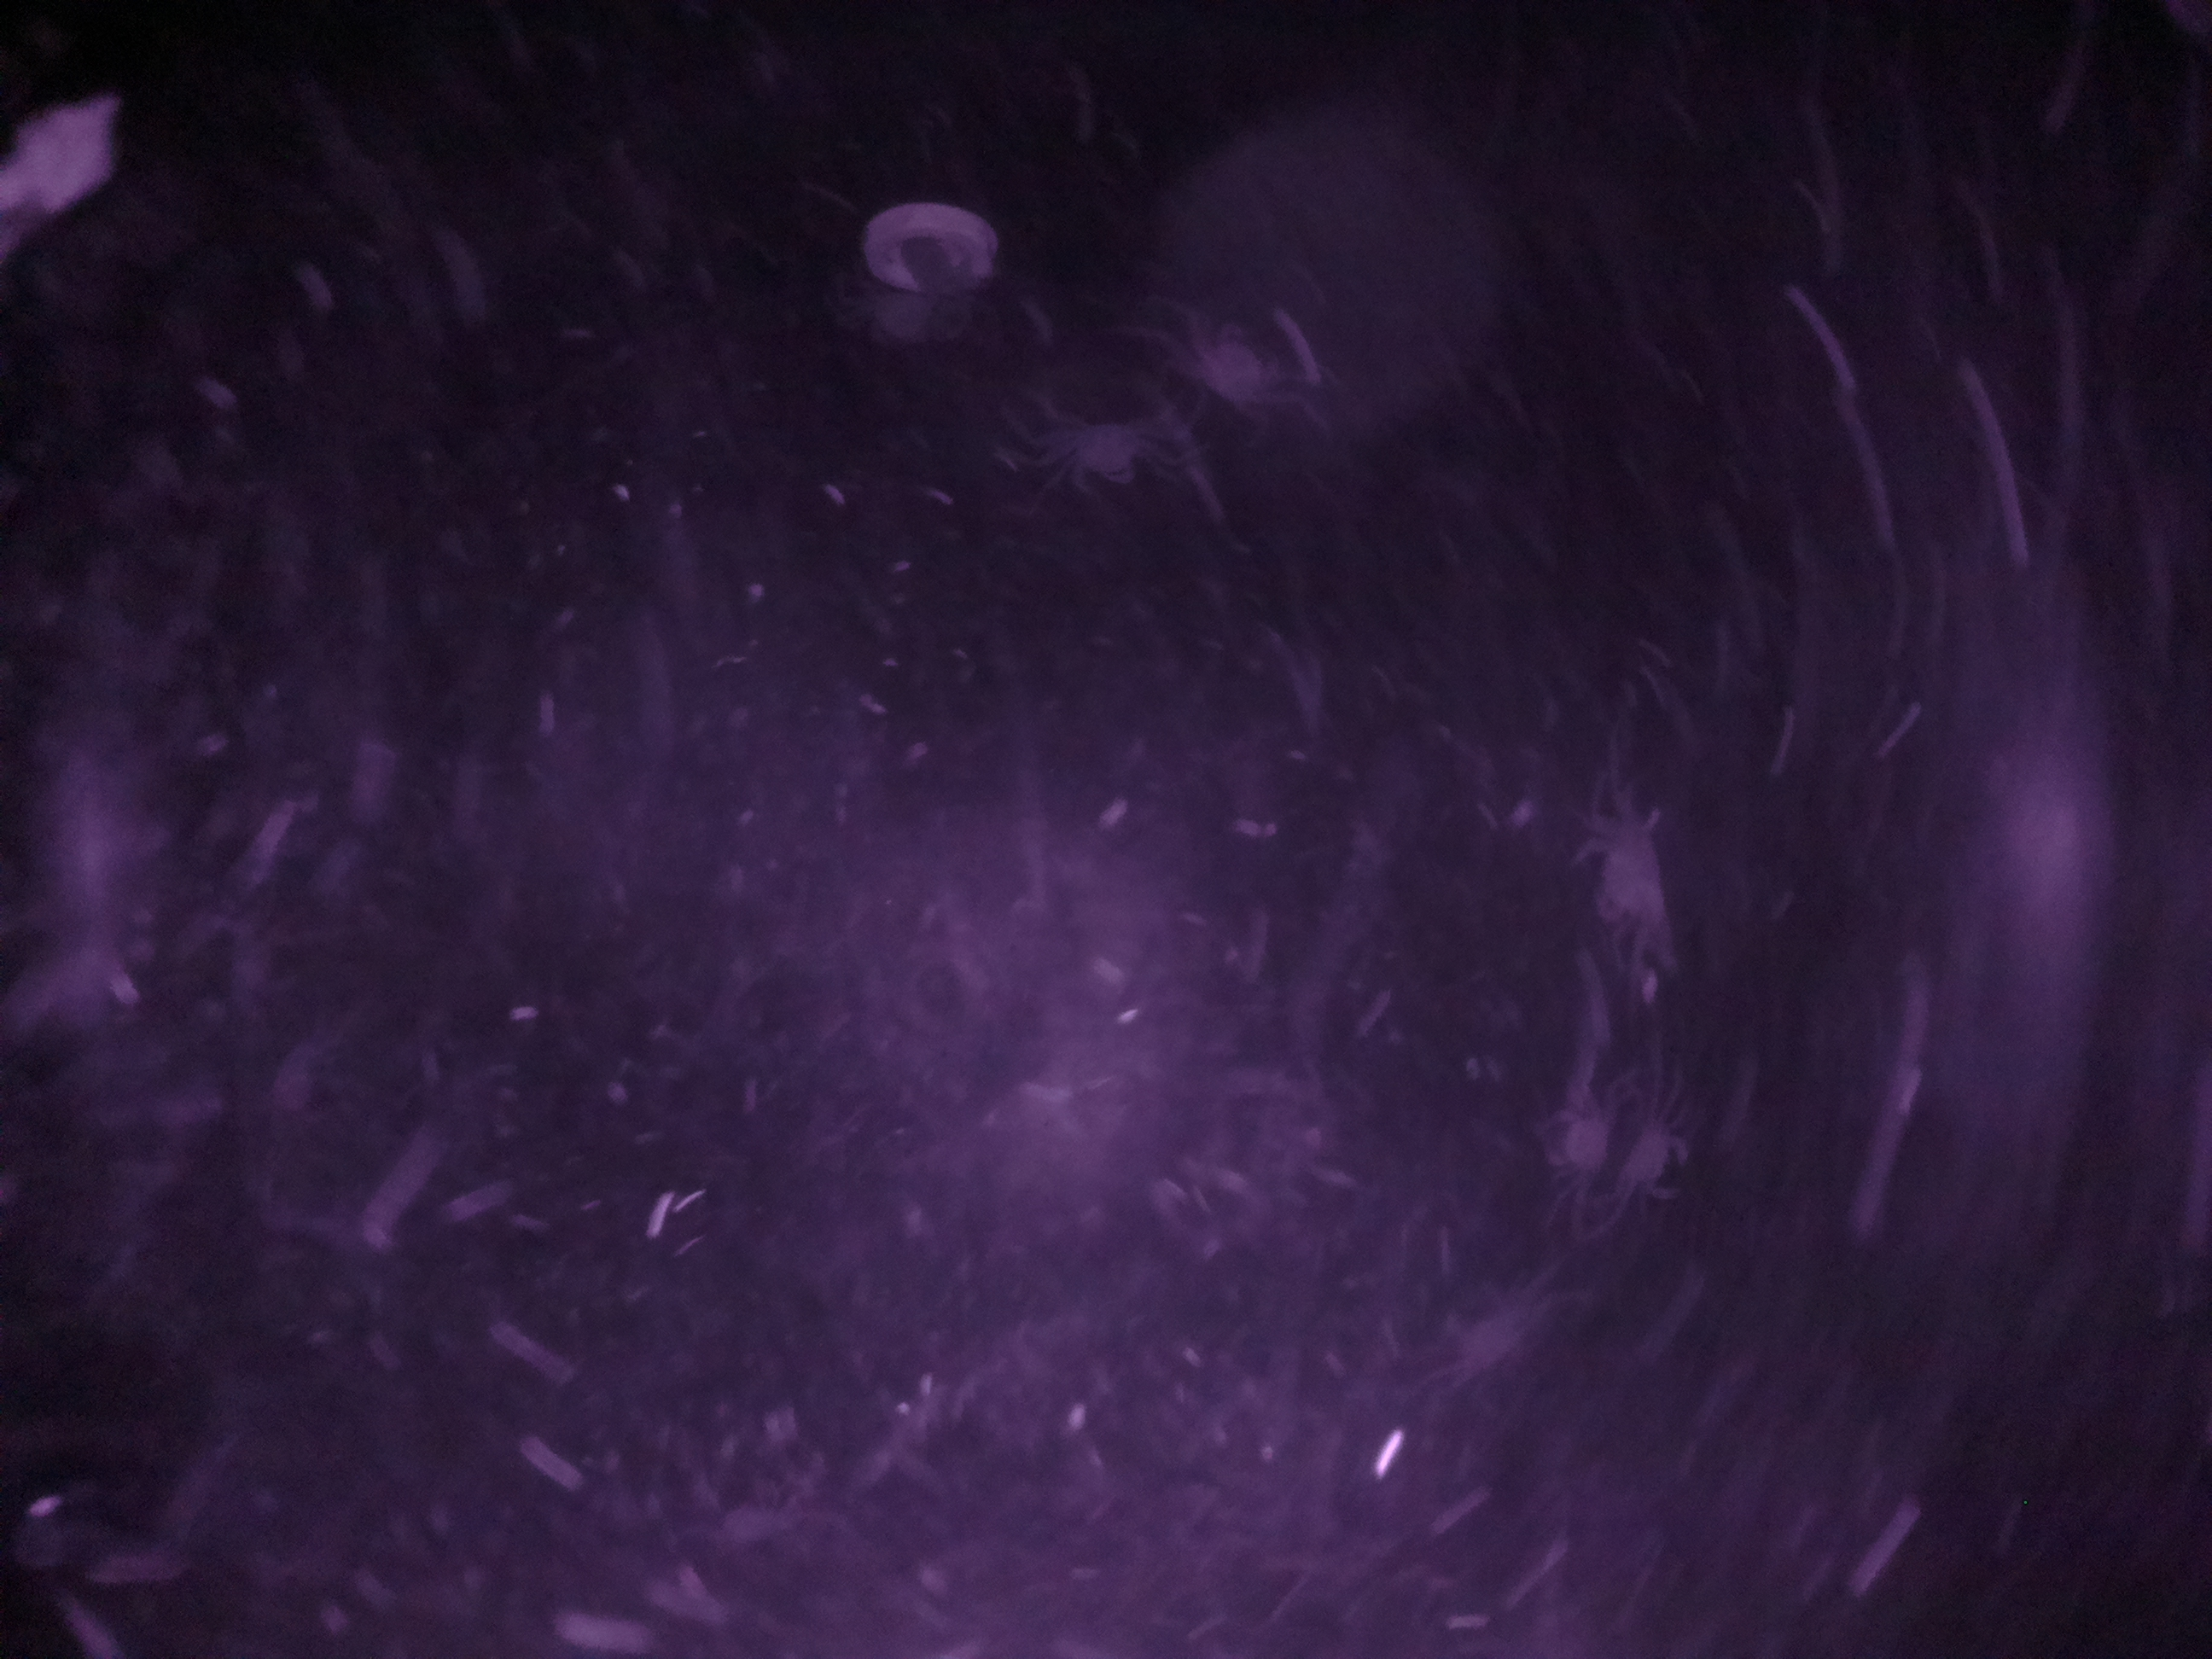Crab: (1561, 807, 1700, 951), (1533, 1072, 1629, 1209)
